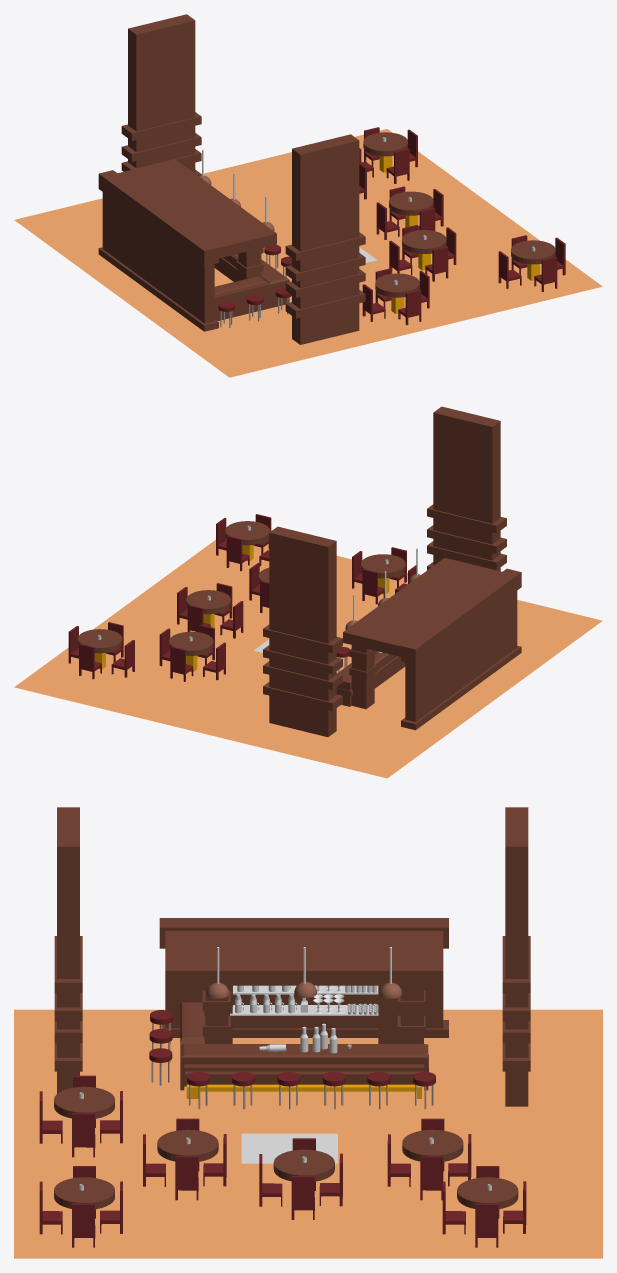
Rendered from bar.fbx.
3 renders of one model, top to bottom at view 1: azimuth 30°, elevation 25°; view 2: azimuth 150°, elevation 25°; view 3: azimuth 270°, elevation 25°, orthographic. The views are drawn at different scales.
Parts seen in each view (by area): view 1: Plane, Cube.061, Cube.040, Cube.064, Cube.001, Cube, Cylinder.023, Cylinder.022, Cylinder.019, Cylinder.024, Cylinder.021, Cube.066 (+9 smaller); view 2: Plane, Cube.064, Cube.040, Cube.061, Cube.001, Cube.004, Cube, Cylinder.024, Cylinder.020, Cylinder.019, Cylinder.022, Cylinder.023 (+11 smaller); view 3: Plane, Cube.040, Cube, Cube.001, Cube.064, Cube.061, Cube.071, Cube.060, Cube.003, Cylinder.021, Cylinder.020, Cylinder.024 (+16 smaller).
Part boxes in pixels (x1,y1,x2,y2): Plane: (14,129,602,377); Cube.061: (292,134,359,344); Cube.040: (98,159,276,266); Cube.064: (128,14,195,173); Cube.001: (98,192,218,331); Cube: (214,254,289,320); Cylinder.023: (511,240,555,264); Cylinder.022: (375,273,419,297); Cylinder.019: (389,191,433,215); Cylinder.024: (363,132,407,156); Cylinder.021: (402,230,446,253); Cube.066: (121,112,201,140); Plane: (14,539,602,778); Cube.064: (269,526,336,736); Cube.040: (343,558,521,664); Cube.061: (433,406,500,571); Cube.001: (401,591,521,730); Cube.004: (351,645,374,709); Cube: (336,651,405,706); Cylinder.024: (77,629,122,653); Cylinder.020: (169,631,213,655); Cylinder.019: (186,590,230,614); Cylinder.022: (361,554,405,578); Cylinder.023: (225,521,269,545); Plane: (14,1009,602,1258); Cube.040: (159,918,448,985); Cube: (180,1002,428,1090); Cube.001: (159,985,448,1037); Cube.064: (505,807,528,1106); Cube.061: (57,807,79,1093); Cube.071: (241,1133,337,1163); Cube.060: (184,1054,428,1074); Cube.003: (186,1084,421,1098); Cylinder.021: (157,1129,218,1161); Cylinder.020: (402,1129,463,1161); Cylinder.024: (457,1177,518,1209).
Bounding box in the file's own units: 5119 × 2662 × 5119.
